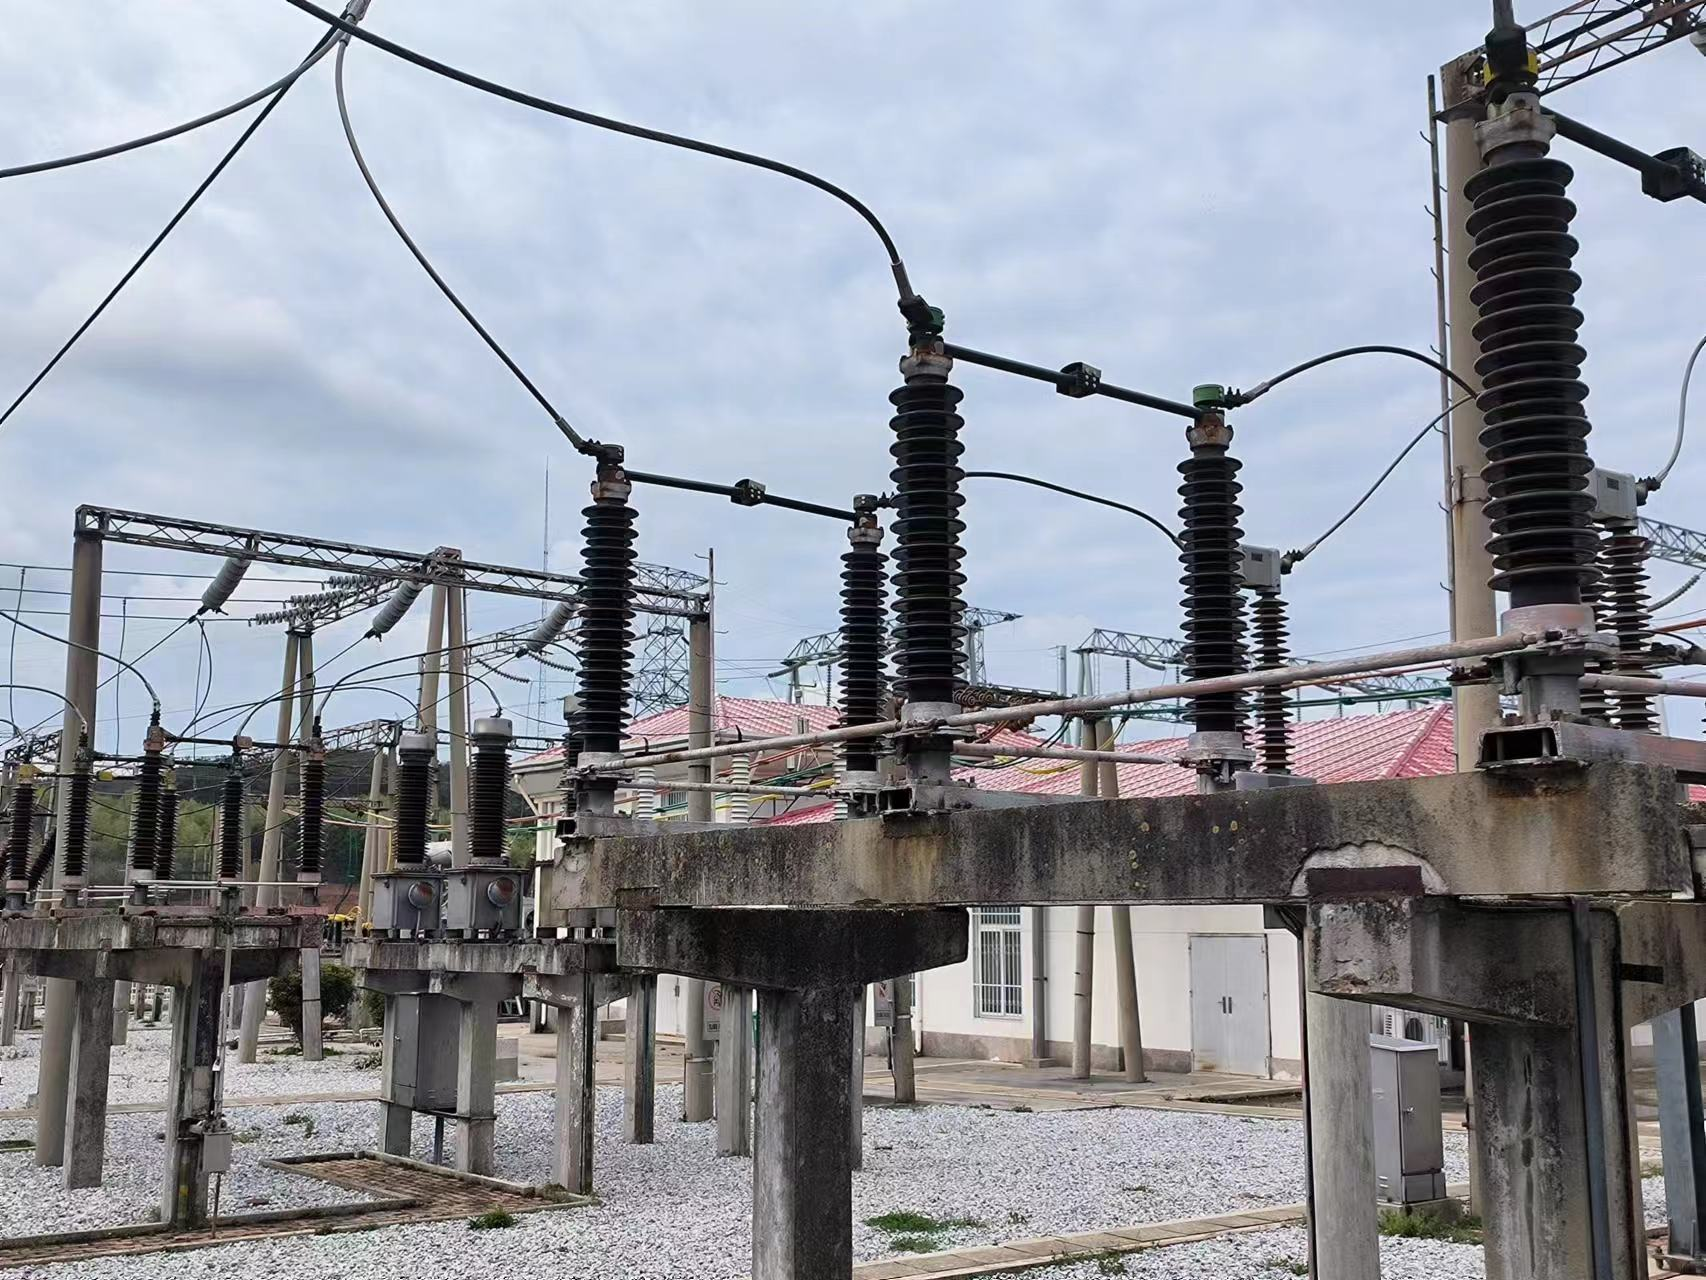Disconnecting link: (887, 294, 1256, 783), (551, 432, 887, 795)
